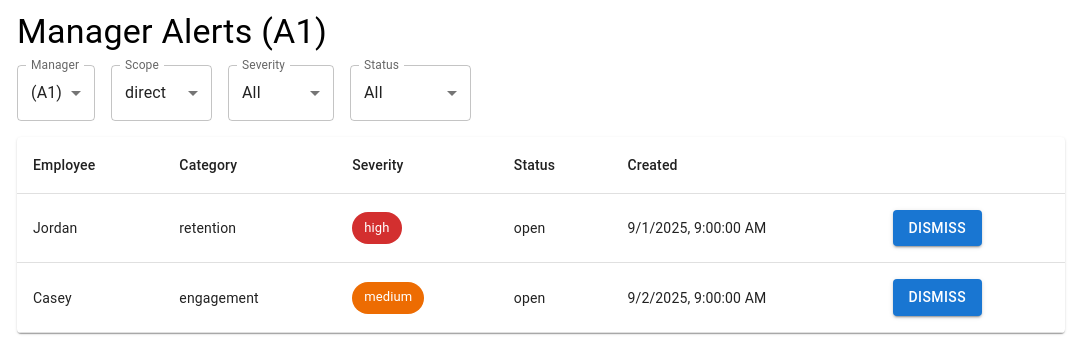
it: filters to high severity
Select "high" in the dropdown labelled "Severity". click: (281, 93)
box: [228,65,334,121]
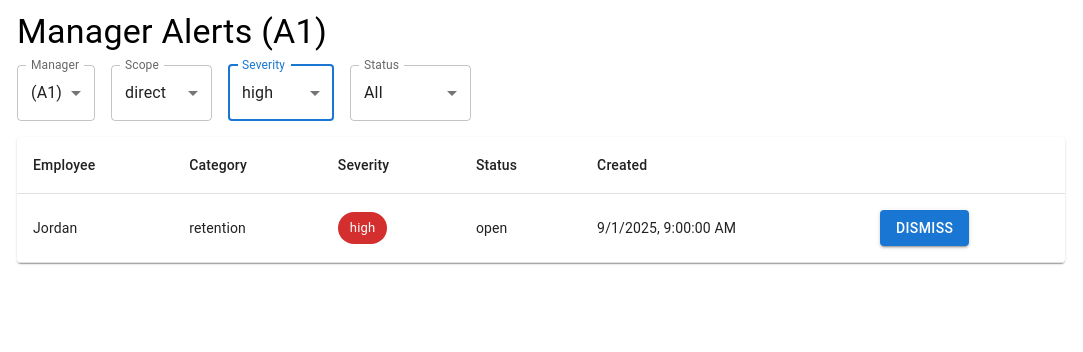
Check: the text "Jordan" is shown, box [17,193,173,263]
Check: the text "Casey" is gone
